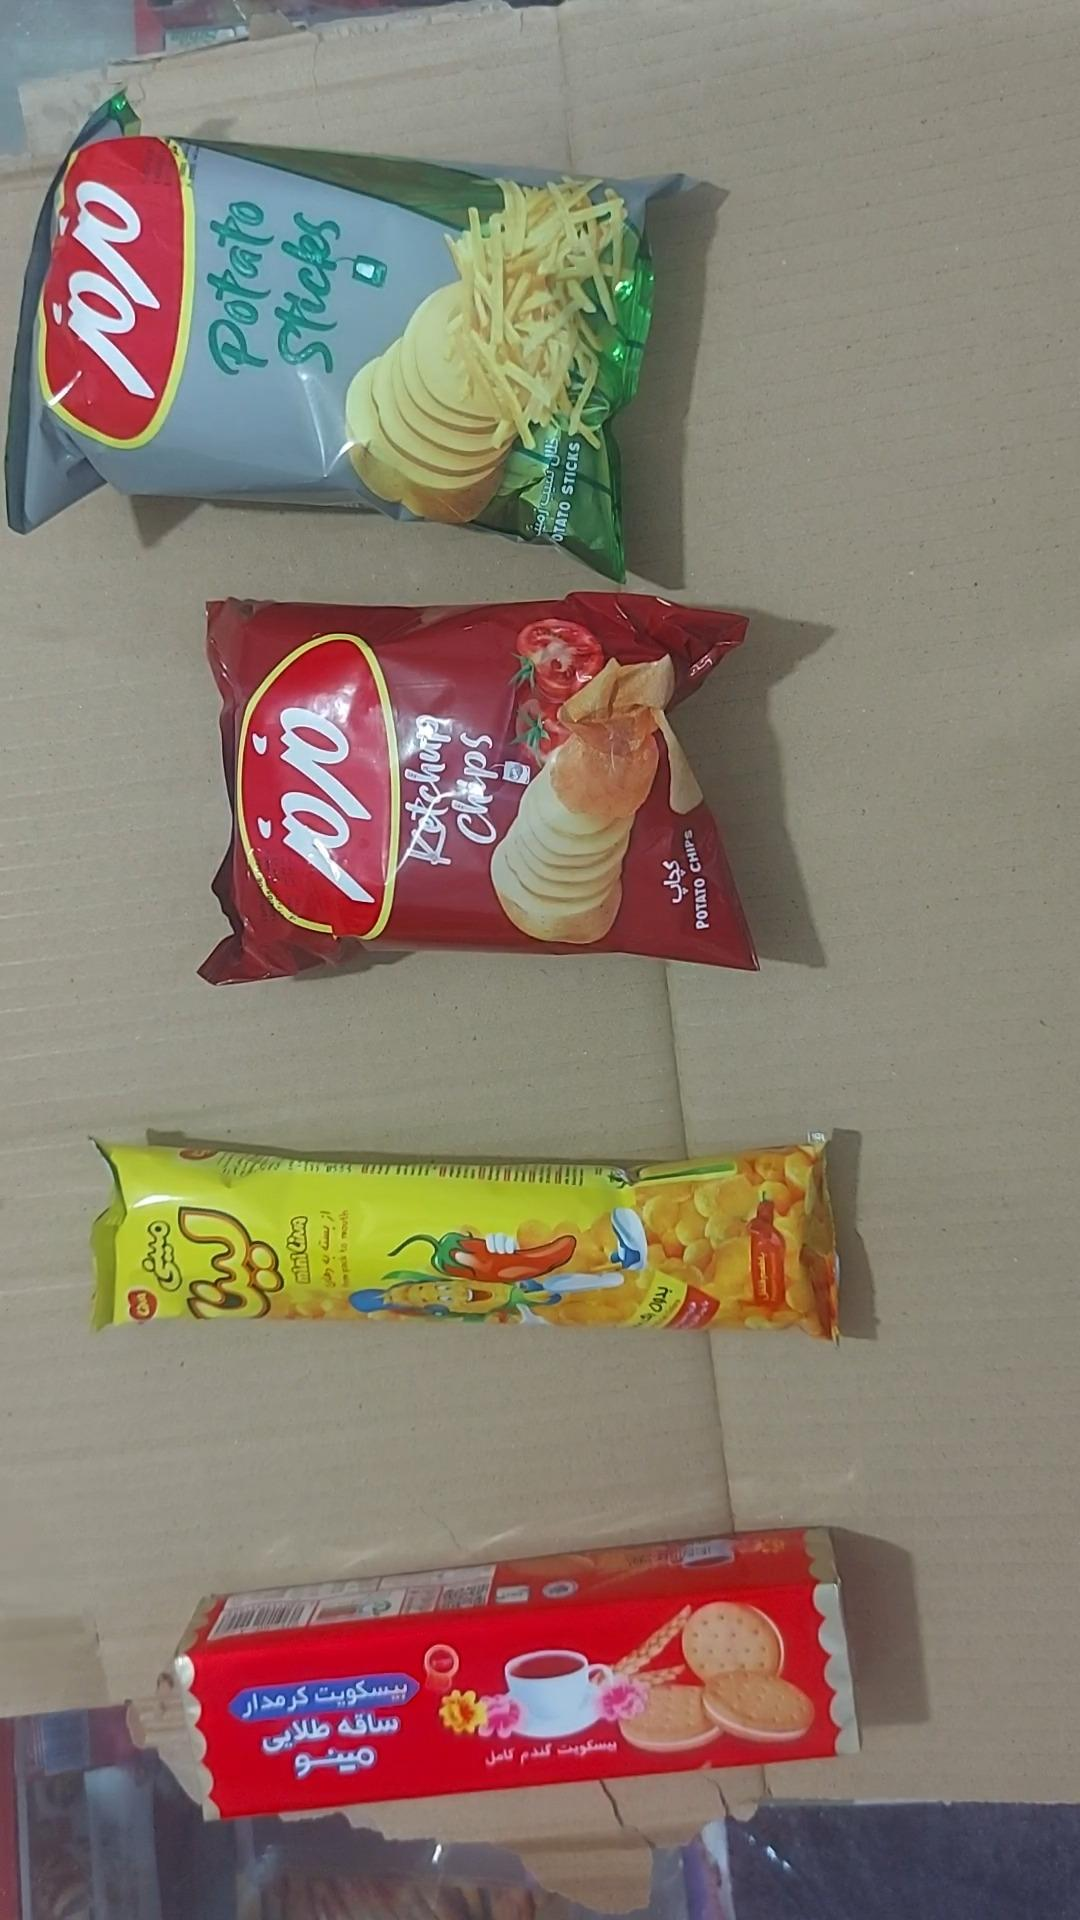Maz Maz ketchup chips: (196, 589, 762, 989)
Maz Maz potato sticks: (4, 91, 684, 585)
Mini Lina: (88, 1131, 840, 1342)
Minoo cream biscuit: (170, 1528, 858, 1820)
